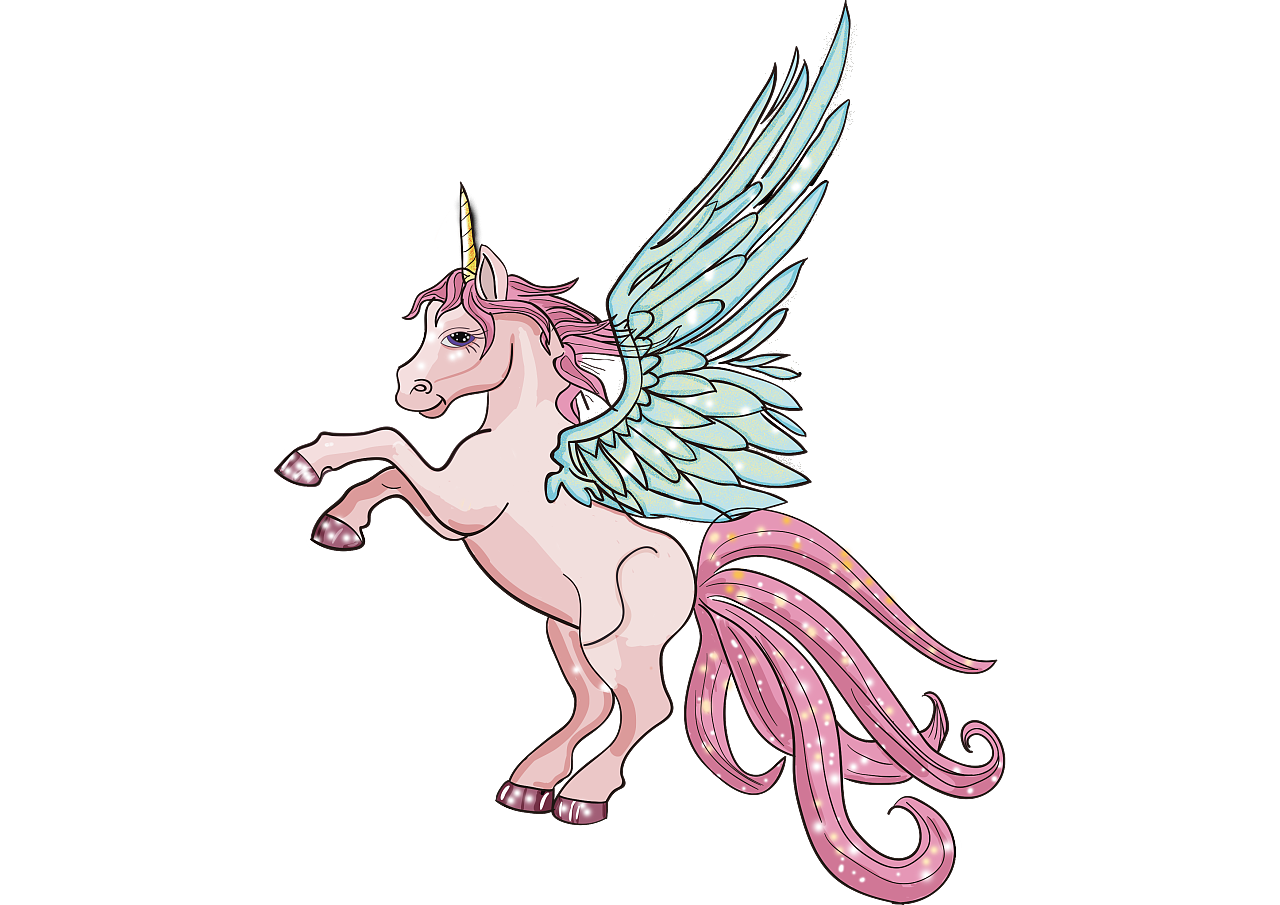background: (278, 185, 696, 828)
